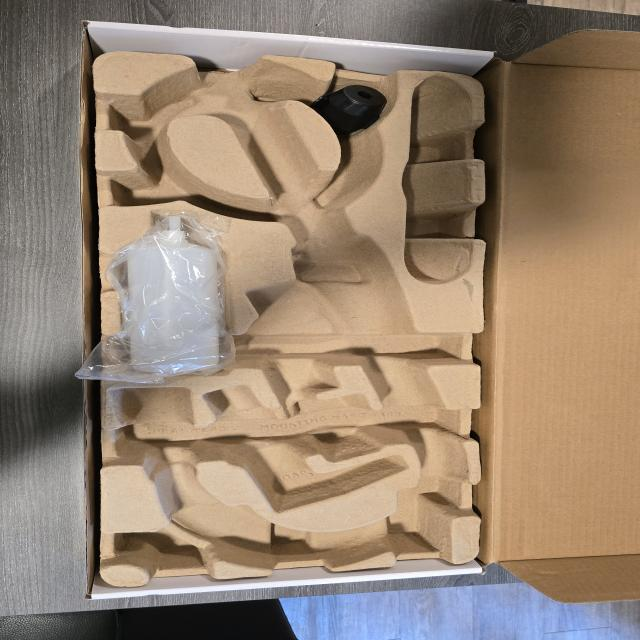1m: (112, 57, 468, 568)
2m: (206, 386, 406, 513)
3: (124, 215, 223, 374)
4m: (401, 78, 474, 284)
5: (316, 85, 387, 133)
6m: (110, 84, 200, 134)
7m: (110, 159, 212, 203)
